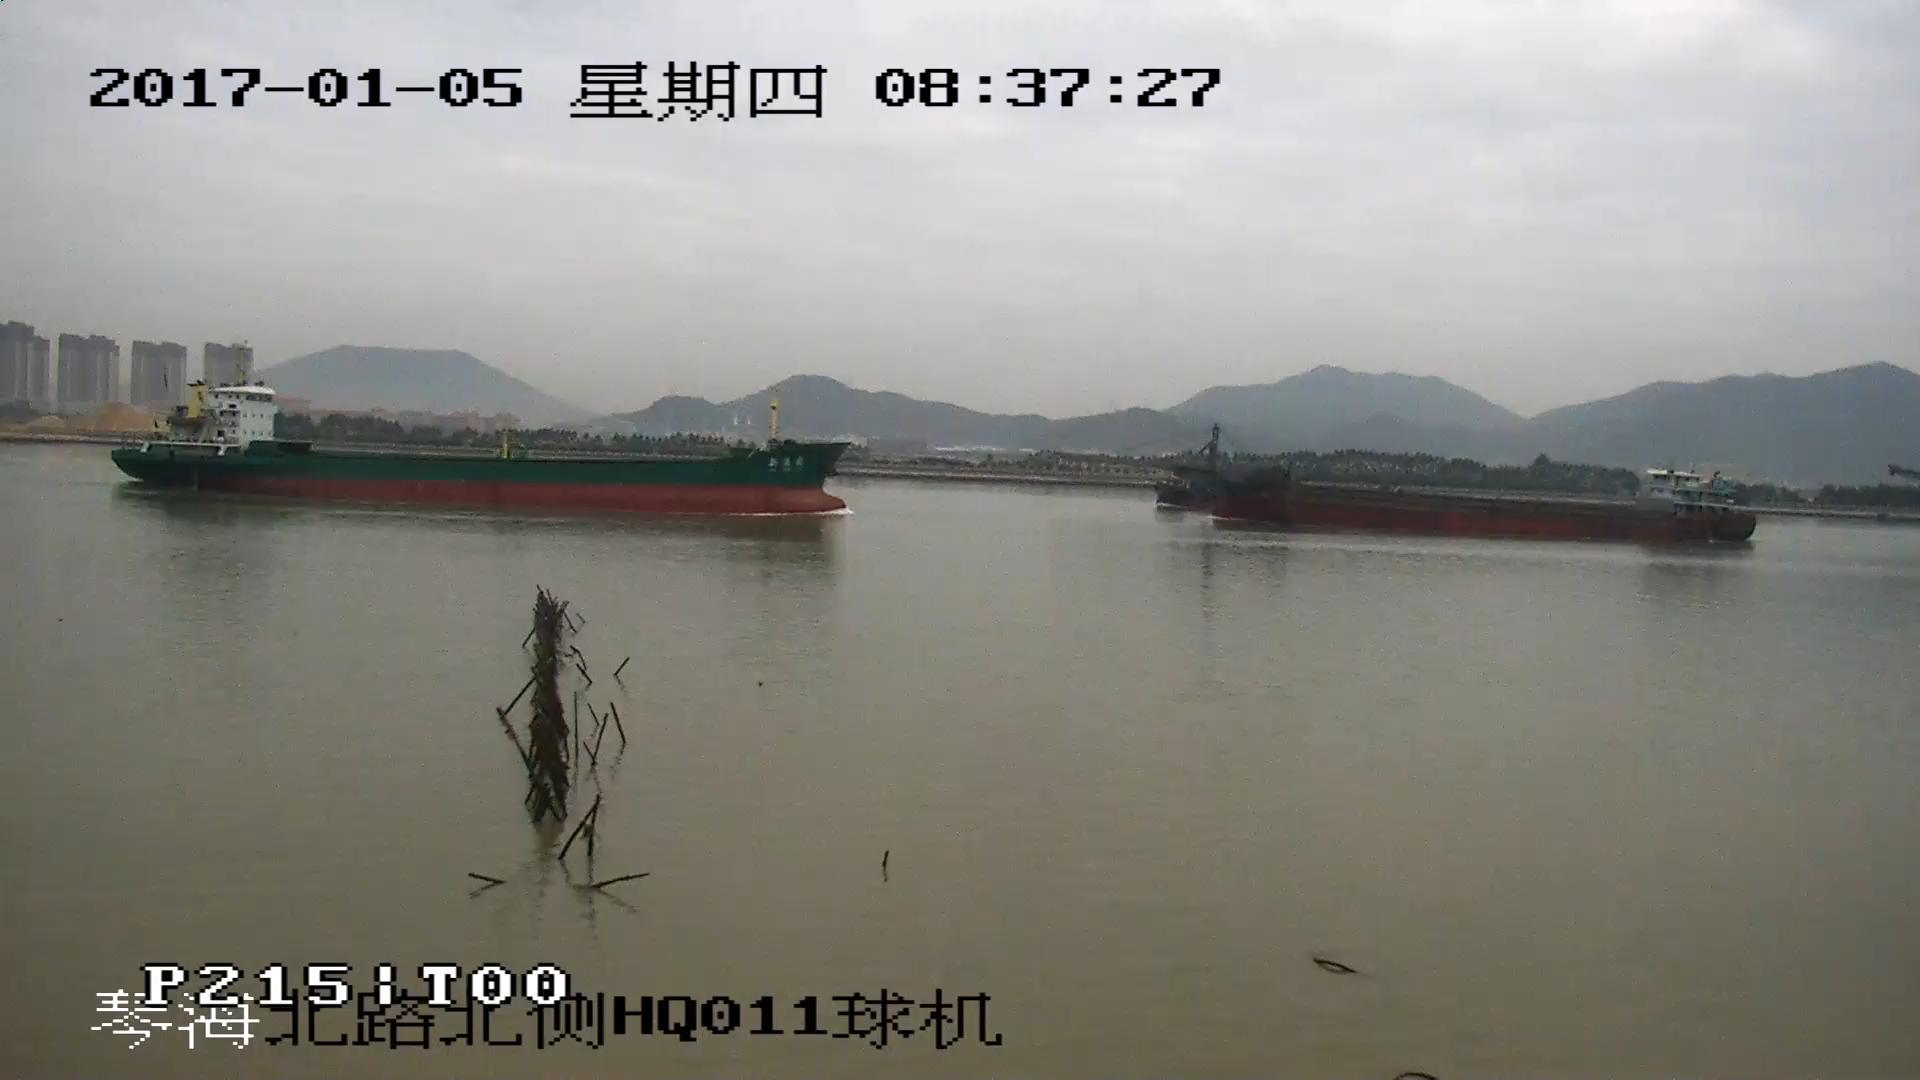Ship: (115, 349, 843, 517), (1164, 434, 1758, 545)
